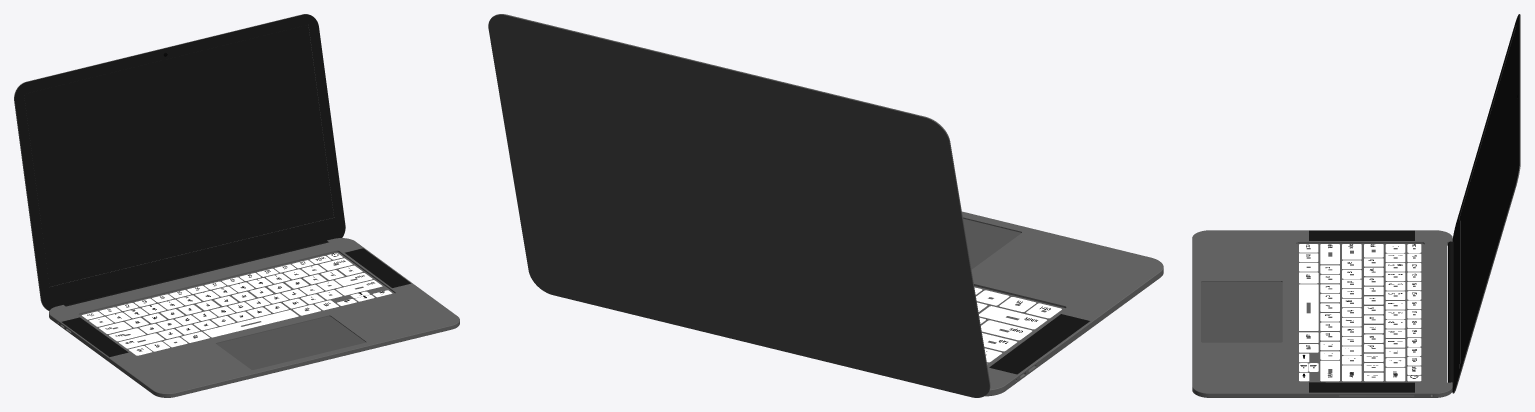
File: laptop-transformed.glb
3 renders of one model, left to right at view 1: azimuth 30°, elevation 25°; view 2: azimuth 150°, elevation 25°; view 3: azimuth 270°, elevation 25°, orthographic. The views are drawn at different scales.
Parts seen in each view (by area): view 1: body, keyboard; view 2: body, keyboard; view 3: body, keyboard.
Boxes of the visible parts, x1,y1,x2,y2 form: body: (14,14,459,397); keyboard: (82,253,392,355); body: (488,14,1163,397); keyboard: (974,287,1061,362); body: (1192,14,1520,397); keyboard: (1299,244,1421,381).
Size of the model in its own units: 4.45 by 2.9 by 3.78.
3 materials, 3 textured.
